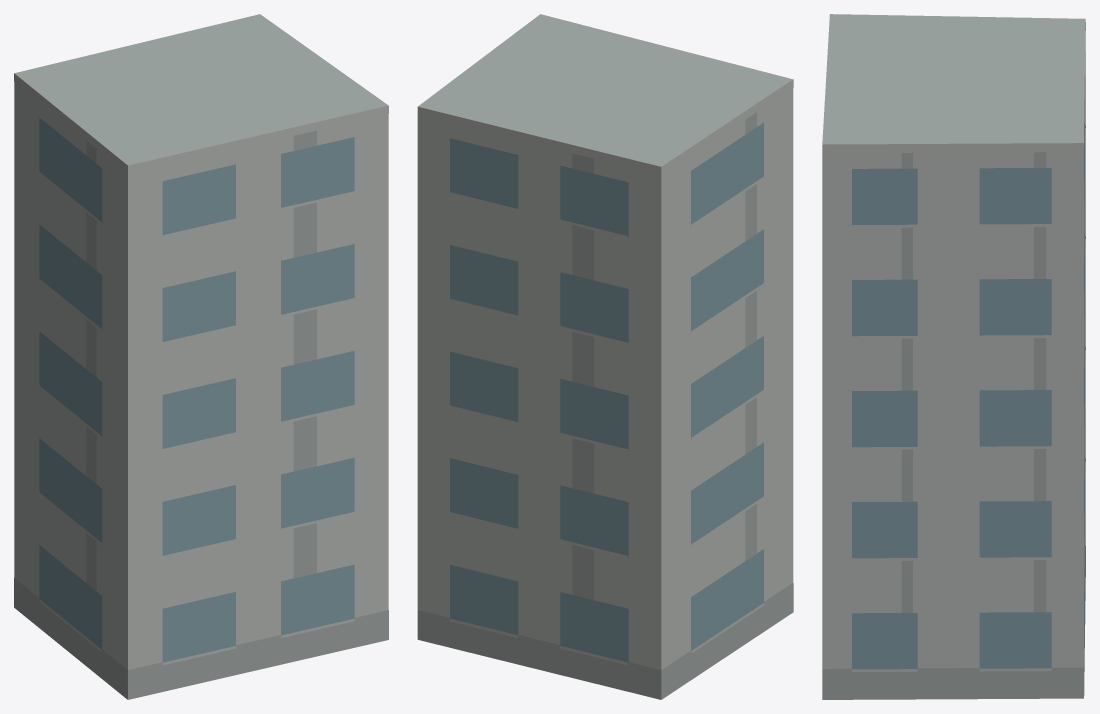
The model's file is survey-upis-32929440.glb.
3 views of the same model, side by side, from view 1: azimuth 30°, elevation 25°; view 2: azimuth 150°, elevation 25°; view 3: azimuth 270°, elevation 25° (orthographic). The views are drawn at different scales.
Parts seen in each view (by area): view 1: survey-upis-32929440.tmp; view 2: survey-upis-32929440.tmp; view 3: survey-upis-32929440.tmp.
Boxes of the visible parts, box(x1,y1,x2,y2) form: survey-upis-32929440.tmp: box(14, 14, 388, 699); survey-upis-32929440.tmp: box(417, 14, 793, 699); survey-upis-32929440.tmp: box(822, 14, 1085, 699).
Size of the model in its own units: 7.69 by 15.25 by 6.57.
